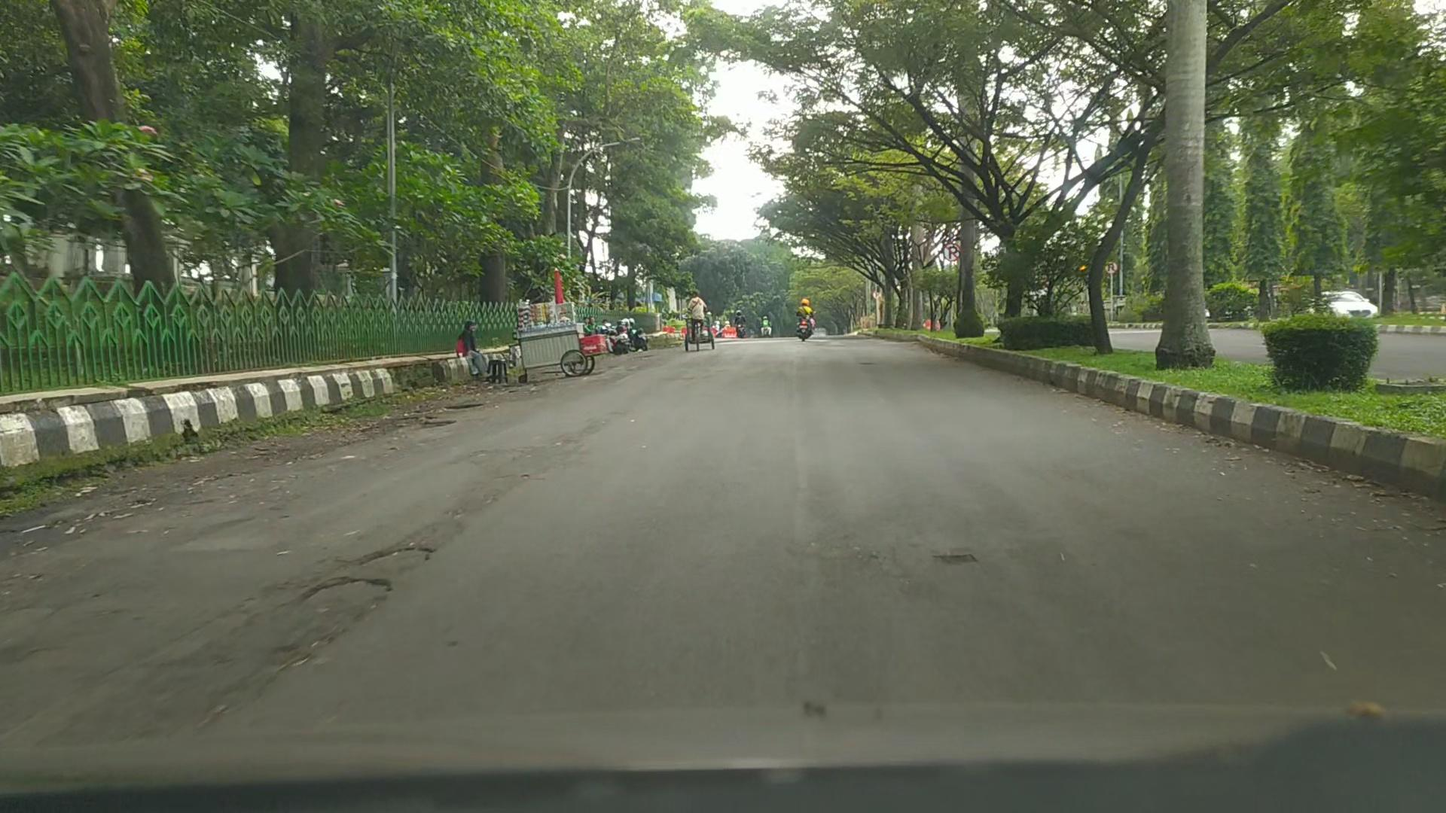pothole: (300, 576, 394, 614), (352, 543, 431, 577), (935, 553, 980, 568)
